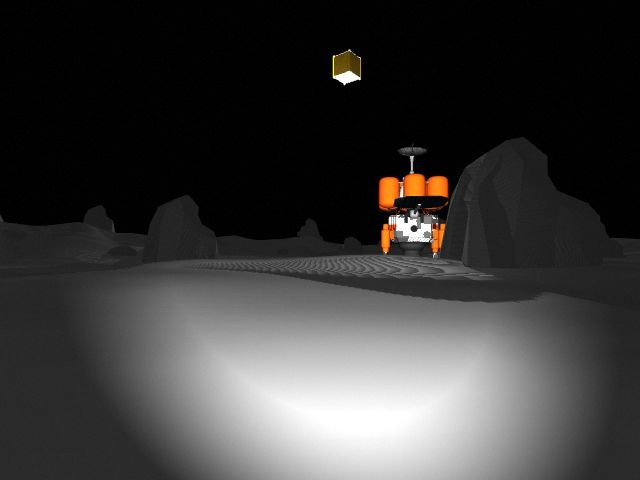cubesat: (327, 47, 365, 90)
